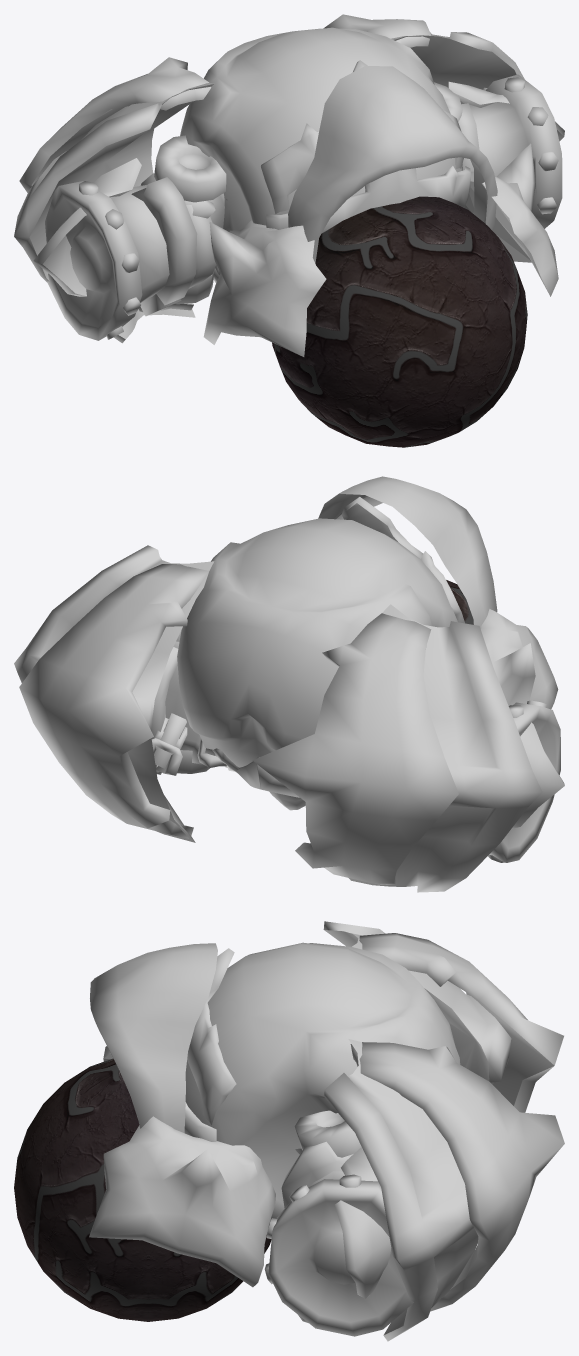
The picture shows the model from 3 angles, top to bottom: view 1: azimuth 30°, elevation 25°; view 2: azimuth 150°, elevation 25°; view 3: azimuth 270°, elevation 25°; orthographic projection. The views are drawn at different scales.
Visible parts, largest first — view 1: ironreaver01; view 2: ironreaver01; view 3: ironreaver01.
Boxes of the visible parts, <box> form: ironreaver01: <box>14,14,564,447</box>; ironreaver01: <box>14,476,564,892</box>; ironreaver01: <box>14,921,564,1341</box>.
Bounding box in the file's own units: 1.55 × 0.968 × 1.34.
